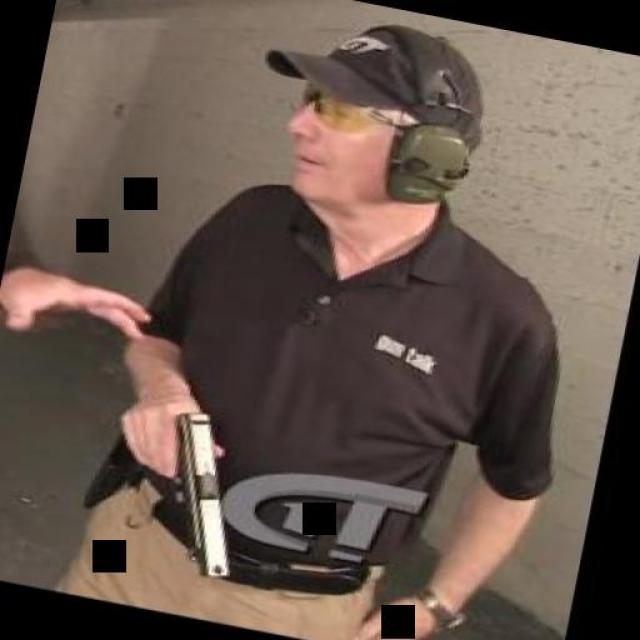gun: (88, 392, 260, 582)
